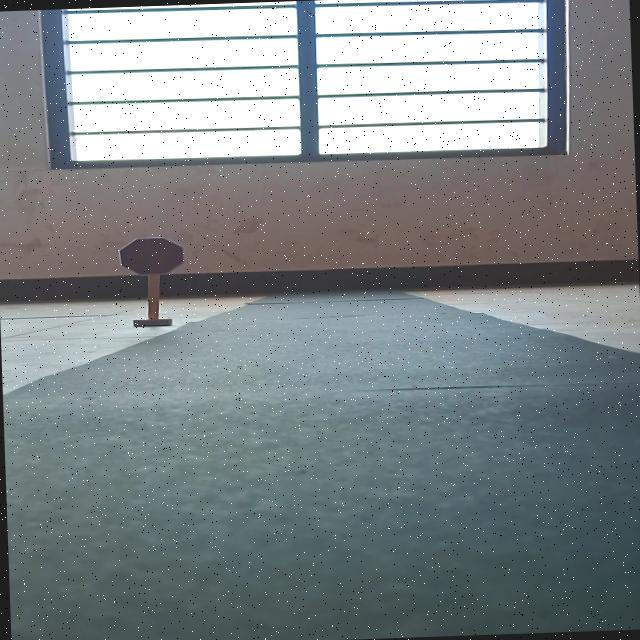Stop: (118, 236, 186, 276)
